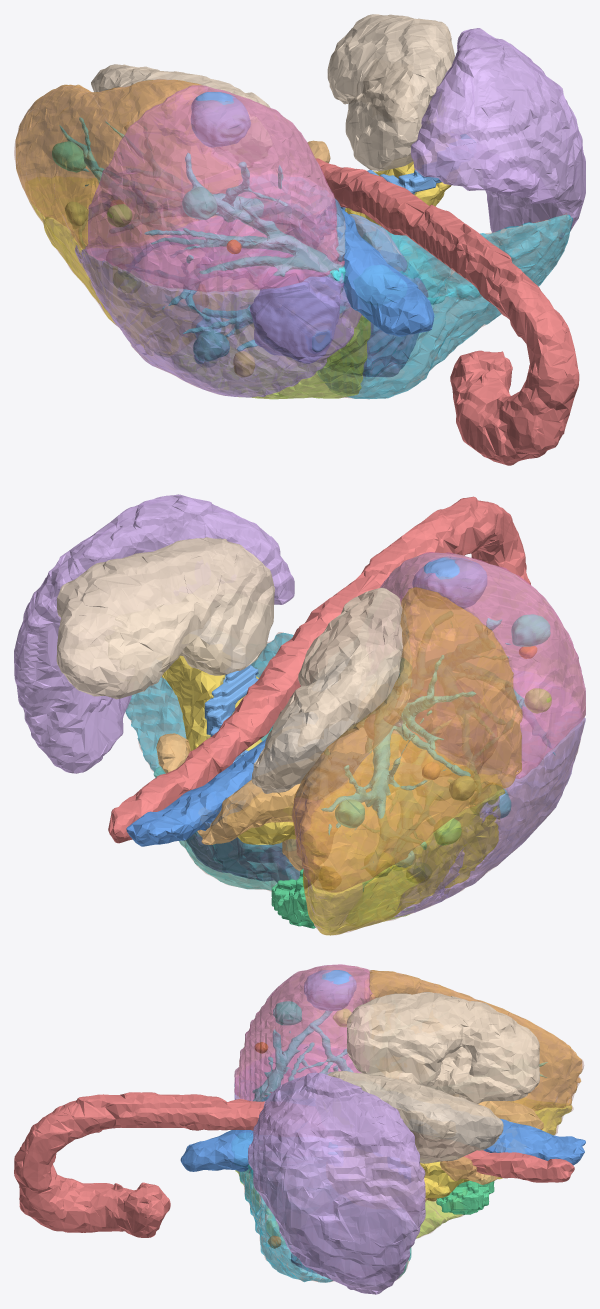
File: liver_anatomy_layers.glb
3 renders of one model, top to bottom at view 1: azimuth 30°, elevation 25°; view 2: azimuth 150°, elevation 25°; view 3: azimuth 270°, elevation 25°, orthographic. The views are drawn at different scales.
Visible parts, largest first — view 1: Liver_Shell, Segment_7, Segment_8, Aorta, Spleen, Segment_6, Kidney_Left, Segment_2, Hepatic_Vessels, Segment_4, Lesion_L02, Inferior_Vena_Cava (+11 smaller); view 2: Liver_Shell, Segment_6, Kidney_Left, Segment_7, Spleen, Aorta, Segment_5, Kidney_Right, Segment_8, Hepatic_Vessels, Inferior_Vena_Cava, Duodenum (+10 smaller); view 3: Spleen, Aorta, Kidney_Right, Liver_Shell, Segment_7, Kidney_Left, Segment_6, Inferior_Vena_Cava, Hepatic_Vessels, Segment_2, Duodenum, Lesion_L03 (+6 smaller).
Boxes of the visible parts, bbox=[...] form: Liver_Shell: bbox=[14, 79, 571, 398]; Segment_7: bbox=[85, 85, 344, 292]; Segment_8: bbox=[75, 216, 361, 397]; Aorta: bbox=[316, 158, 579, 465]; Spleen: bbox=[411, 28, 585, 238]; Segment_6: bbox=[15, 79, 241, 249]; Kidney_Left: bbox=[327, 14, 454, 171]; Segment_2: bbox=[317, 214, 572, 399]; Hepatic_Vessels: bbox=[59, 117, 470, 350]; Segment_4: bbox=[158, 290, 370, 399]; Lesion_L02: bbox=[250, 276, 340, 363]; Inferior_Vena_Cava: bbox=[337, 209, 434, 336]; Liver_Shell: bbox=[126, 553, 585, 934]; Segment_6: bbox=[292, 587, 522, 892]; Kidney_Left: bbox=[56, 537, 274, 699]; Segment_7: bbox=[380, 552, 585, 778]; Spleen: bbox=[14, 494, 294, 773]; Aorta: bbox=[108, 496, 530, 843]; Segment_5: bbox=[302, 735, 505, 935]; Kidney_Right: bbox=[251, 587, 412, 793]; Segment_8: bbox=[394, 670, 585, 917]; Hepatic_Vessels: bbox=[321, 618, 555, 862]; Inferior_Vena_Cava: bbox=[126, 738, 266, 846]; Duodenum: bbox=[156, 733, 318, 871]; Spleen: bbox=[248, 1072, 425, 1294]; Aorta: bbox=[14, 1092, 574, 1237]; Kidney_Right: bbox=[347, 992, 539, 1103]; Liver_Shell: bbox=[236, 965, 584, 1282]; Segment_7: bbox=[234, 964, 374, 1101]; Kidney_Left: bbox=[323, 1071, 503, 1163]; Segment_6: bbox=[364, 970, 582, 1110]; Inferior_Vena_Cava: bbox=[180, 1118, 585, 1171]; Hepatic_Vessels: bbox=[232, 1011, 547, 1177]; Segment_2: bbox=[239, 1166, 332, 1282]; Duodenum: bbox=[425, 1094, 543, 1201]; Lesion_L03: bbox=[304, 970, 356, 1010].
Bounding box in the file's own units: 240 × 159 × 331.
